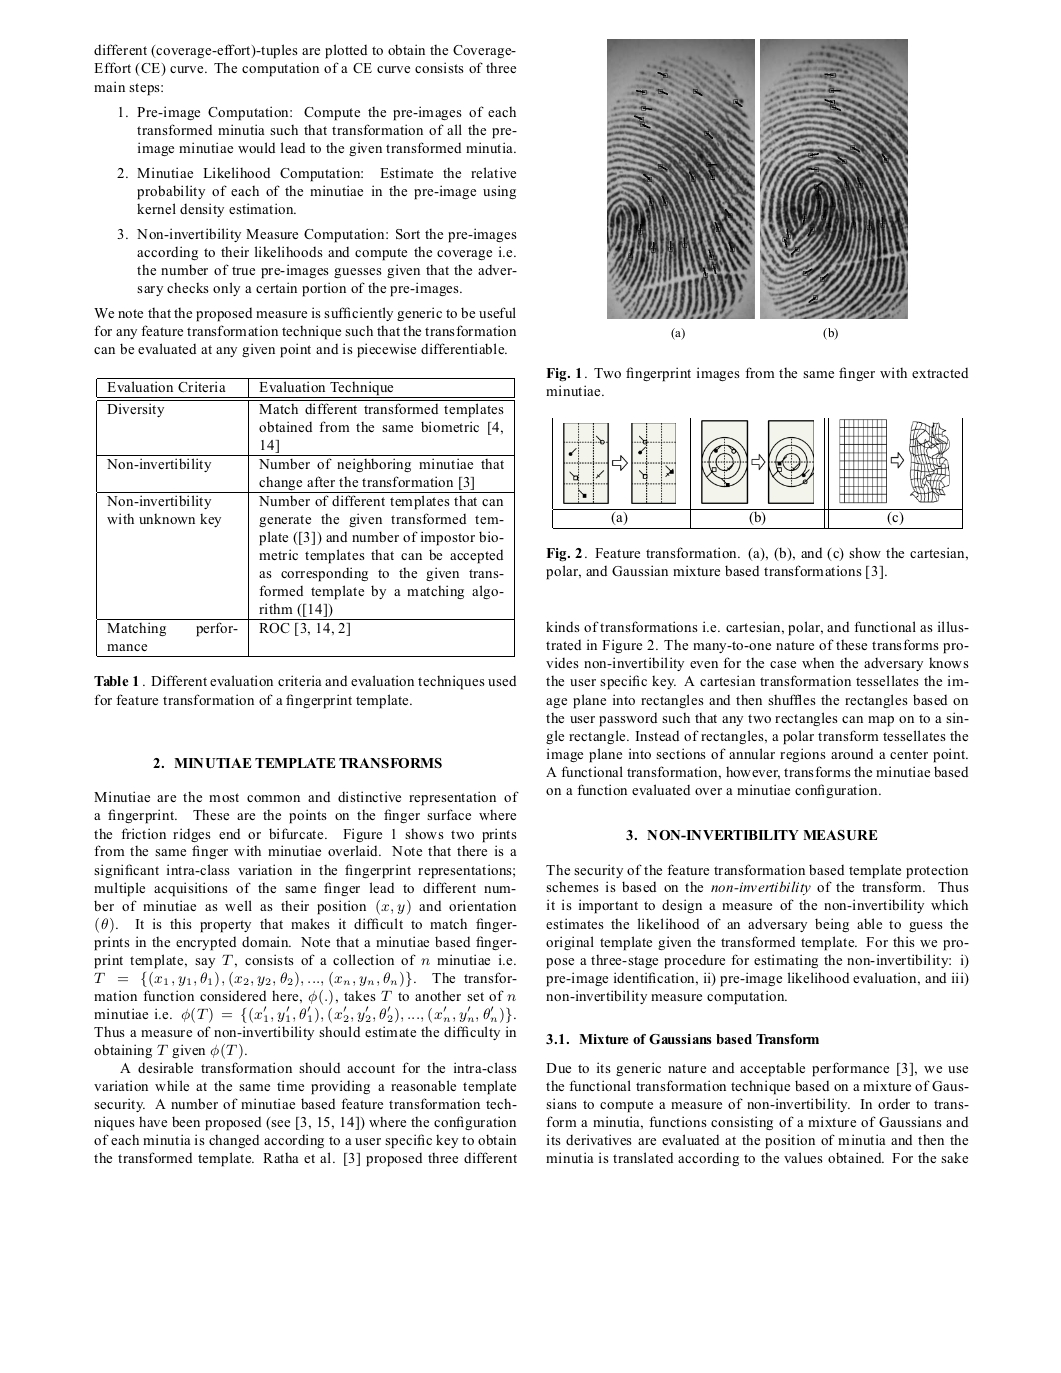Table: (96, 378, 514, 656)
figure: (552, 417, 962, 529), (607, 39, 755, 318), (760, 39, 907, 318)
